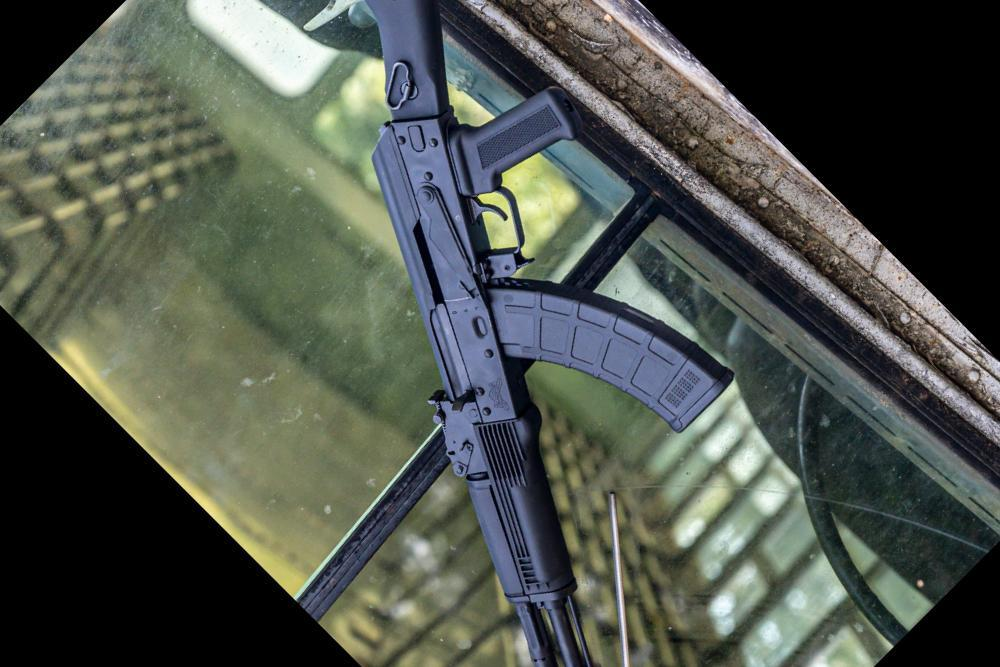larga: (364, 0, 737, 667)
